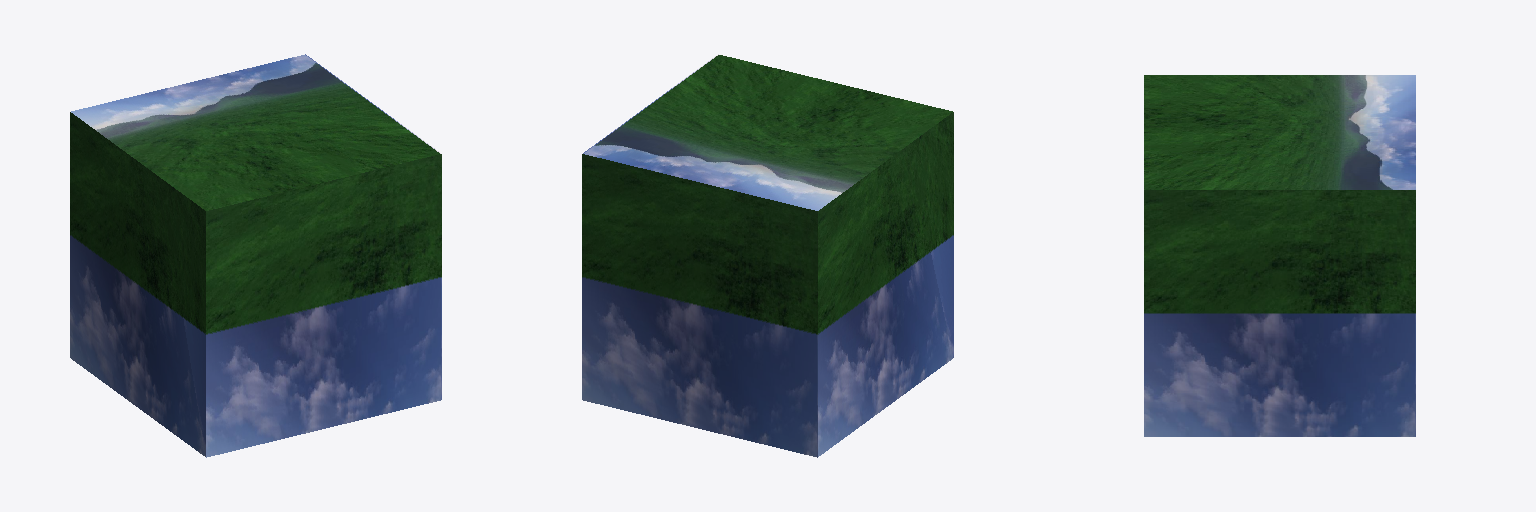
3 renders of one model, left to right at view 1: azimuth 30°, elevation 25°; view 2: azimuth 150°, elevation 25°; view 3: azimuth 270°, elevation 25°, orthographic.
Visible parts, largest first — view 1: skybox; view 2: skybox; view 3: skybox.
Part boxes in pixels (x1,y1,x2,y2): skybox: (70,54,441,457); skybox: (582,54,953,457); skybox: (1144,75,1415,436).
Size of the model in its own units: 200 by 200 by 200.
Materials: 1 (1 with a texture image).